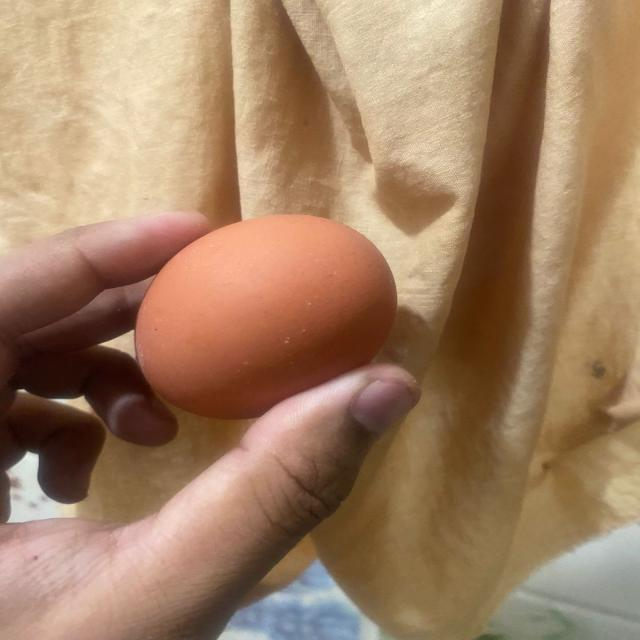Egg: (134, 213, 402, 417)
